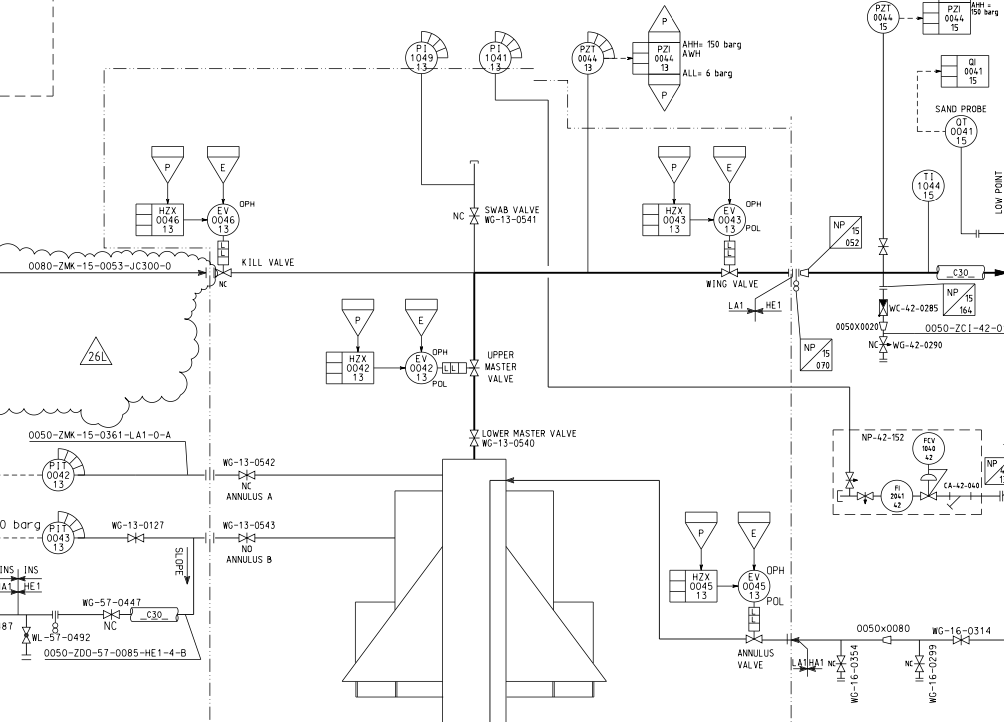Instrument: (912, 161, 947, 209), (910, 427, 950, 467), (731, 565, 772, 604), (864, 1, 905, 38), (942, 114, 982, 151), (569, 37, 606, 77), (40, 519, 78, 557), (40, 455, 77, 494), (711, 201, 749, 238), (879, 477, 916, 514), (477, 37, 513, 75), (402, 39, 439, 75), (205, 200, 241, 237), (406, 348, 439, 387)
Instrument-square: (636, 200, 696, 241), (134, 197, 187, 241), (323, 347, 378, 388), (630, 38, 685, 76), (668, 568, 721, 605), (950, 50, 993, 93), (921, 2, 974, 36)
